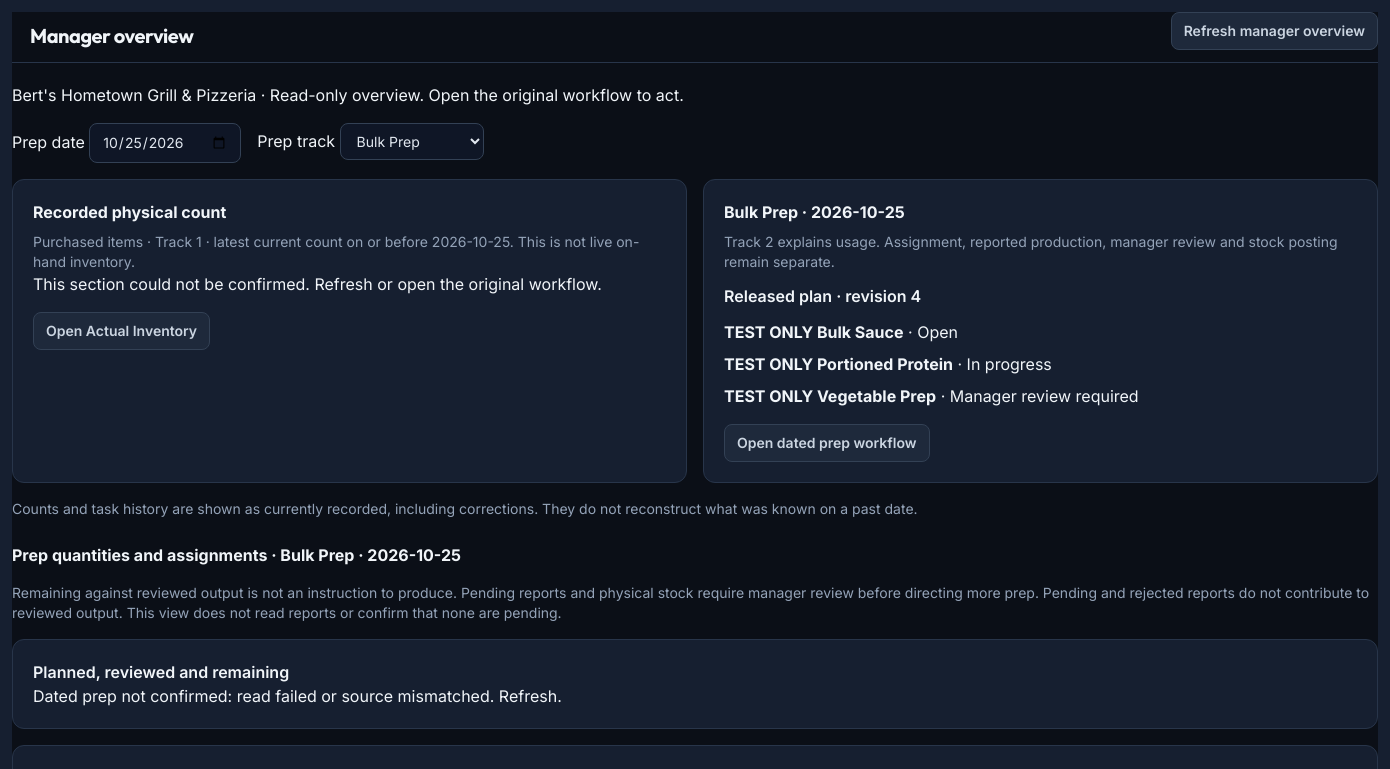
mixed-scope count error leaves valid prep available and permits explicit refresh
What coordinates should you click on to do the following:
click the button "Refresh manager overview"
I would click on:
 (1274, 31)
Its box is top-left (1171, 12), bottom-right (1378, 50).
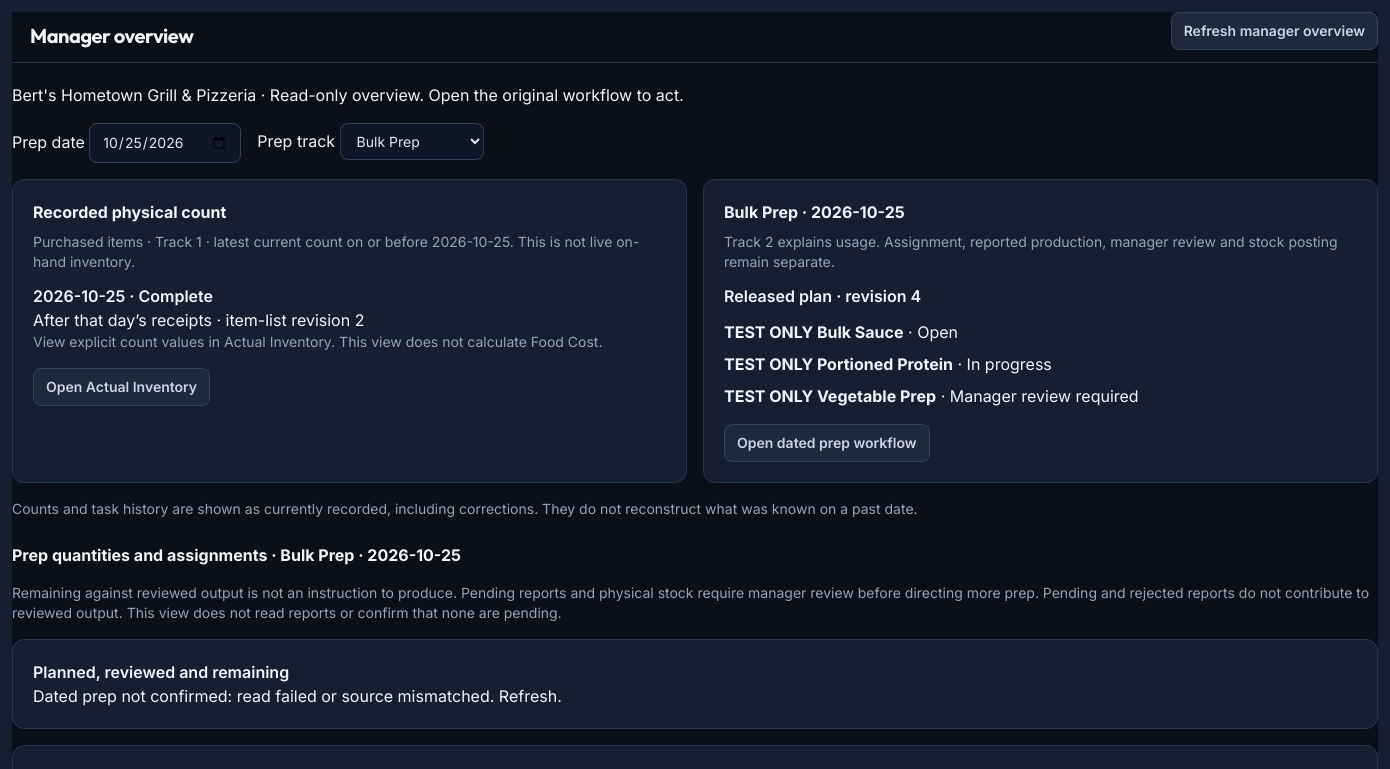
Expected: the text "After that day’s receipts" is shown, top-left (33, 310), bottom-right (364, 330)
